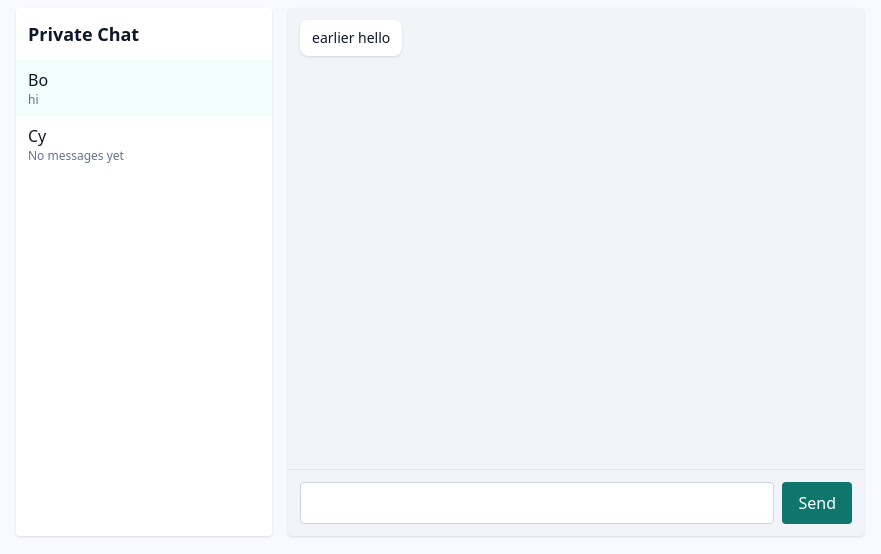
Test: Chat page › shows_the_error_when_the_server_rejects_the_message
Expected: the list item "earlier hello" is shown, [300,20,402,56]
In the field named "Message": point(537, 503) [300,482,774,524], type "hello?"
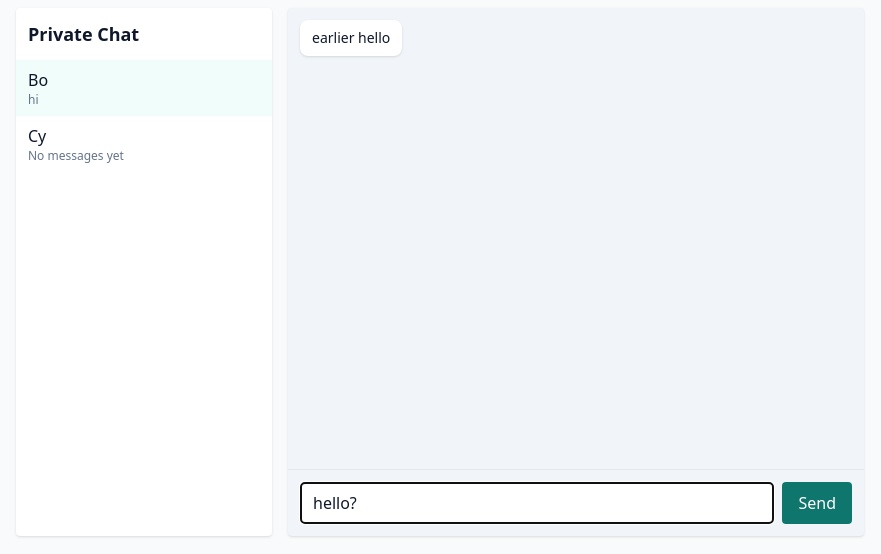
Click the button "Send": point(817, 503) [782,482,852,524]
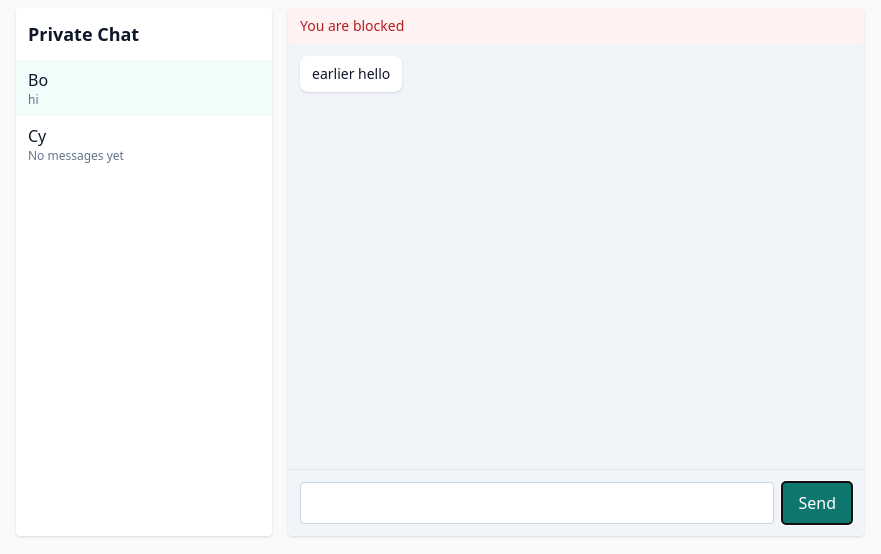
Expected: the message reads "You are blocked", [300,16,404,35]
